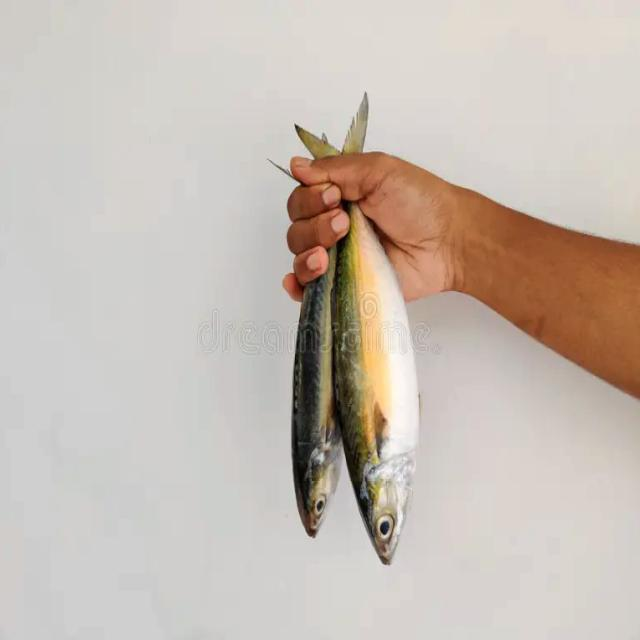Mackerel: (337, 206, 418, 562)
